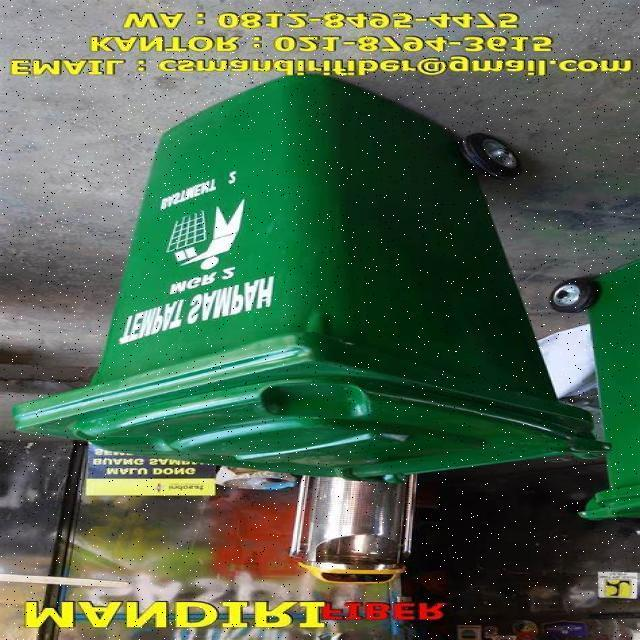garbage container: (2, 81, 615, 517)
